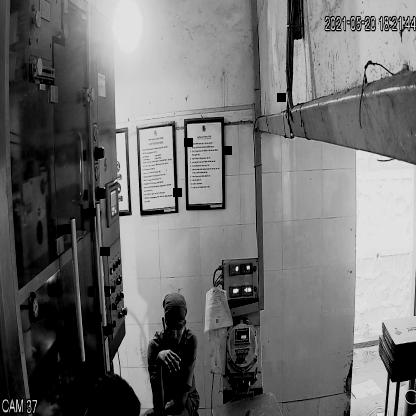goggles: (163, 318, 187, 338)
